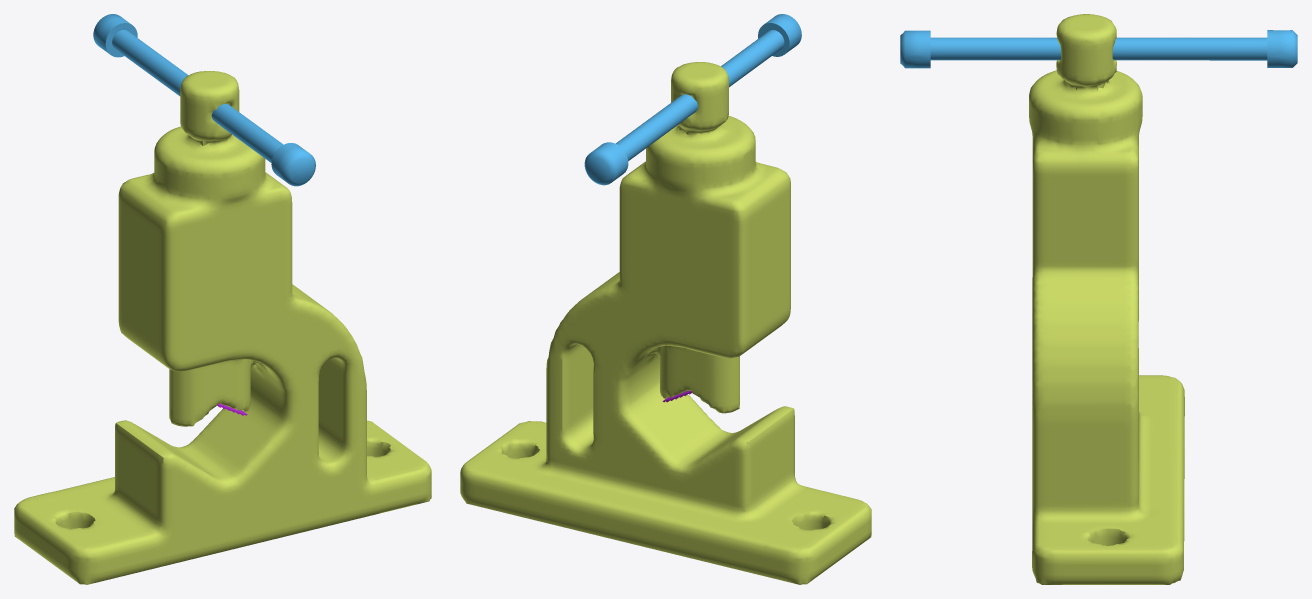
The picture shows the model from 3 angles, left to right: view 1: azimuth 30°, elevation 25°; view 2: azimuth 150°, elevation 25°; view 3: azimuth 270°, elevation 25°; orthographic projection. The views are drawn at different scales.
Parts seen in each view (by area): view 1: Body1_Aluminum - Polished_0, Body1_Brass - Polished_0; view 2: Body1_Aluminum - Polished_0, Body1_Brass - Polished_0; view 3: Body1_Aluminum - Polished_0, Body1_Brass - Polished_0.
Part boxes in pixels (x1,y1,x2,y2): Body1_Aluminum - Polished_0: (14, 71, 431, 584); Body1_Brass - Polished_0: (93, 14, 315, 186); Body1_Aluminum - Polished_0: (460, 62, 871, 584); Body1_Brass - Polished_0: (584, 14, 801, 185); Body1_Aluminum - Polished_0: (1029, 14, 1184, 584); Body1_Brass - Polished_0: (900, 30, 1297, 68).
Size of the model in its own units: 0.8353 by 1 by 0.7803.
